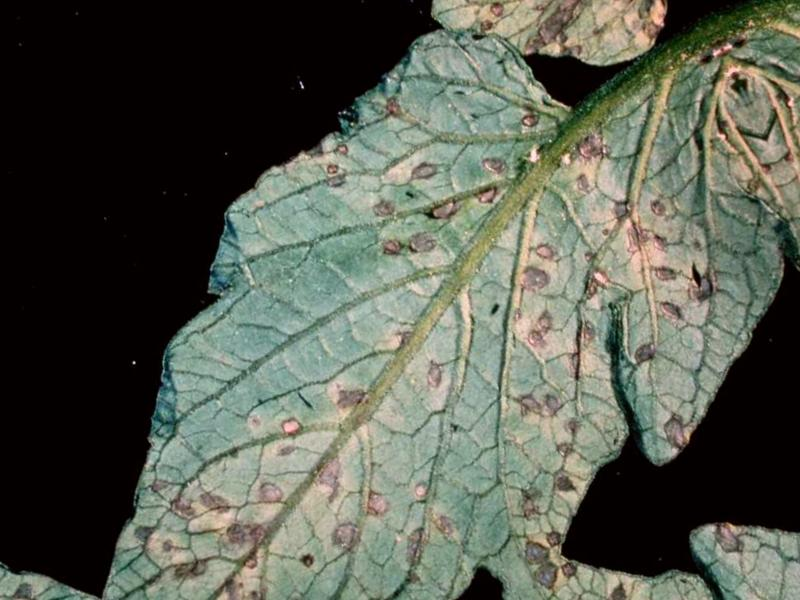Tomato Septoria leaf spot: (0, 0, 800, 600), (409, 0, 706, 131)
